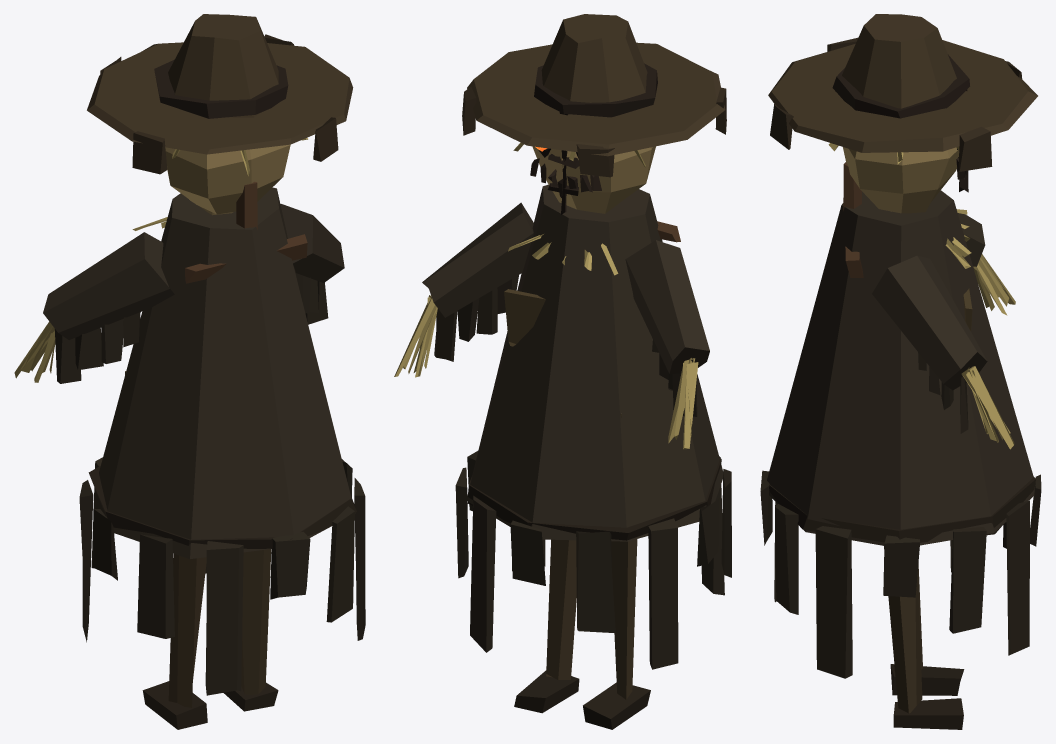
The model's file is creature_scarecrow.glb.
3 renders of one model, left to right at view 1: azimuth 30°, elevation 25°; view 2: azimuth 150°, elevation 25°; view 3: azimuth 270°, elevation 25°, orthographic. The views are drawn at different scales.
Visible parts, largest first — view 1: Torso, Head, ArmL, LegL, LegR, ArmR; view 2: Torso, Head, ArmR, ArmL, LegR, LegL; view 3: Torso, Head, ArmR, LegR, ArmL, LegL.
Part boxes in pixels (box(x1,y1,x2,y2)): Torso: box(79, 181, 365, 695); Head: box(87, 14, 353, 215); ArmL: box(14, 232, 174, 383); LegL: box(142, 553, 207, 729); LegR: box(223, 549, 278, 711); ArmR: box(280, 204, 344, 324); Torso: box(455, 184, 731, 669); Head: box(462, 14, 726, 214); ArmR: box(394, 202, 533, 377); ArmL: box(625, 240, 709, 449); LegR: box(514, 539, 579, 713); LegL: box(583, 539, 650, 729); Torso: box(760, 162, 1041, 678); Head: box(768, 14, 1037, 213); ArmR: box(872, 255, 1014, 449); LegR: box(884, 546, 963, 729); ArmL: box(957, 213, 1015, 315); LegL: box(890, 563, 964, 695).
Size of the model in its own units: 1.02 by 2.23 by 0.8342.
